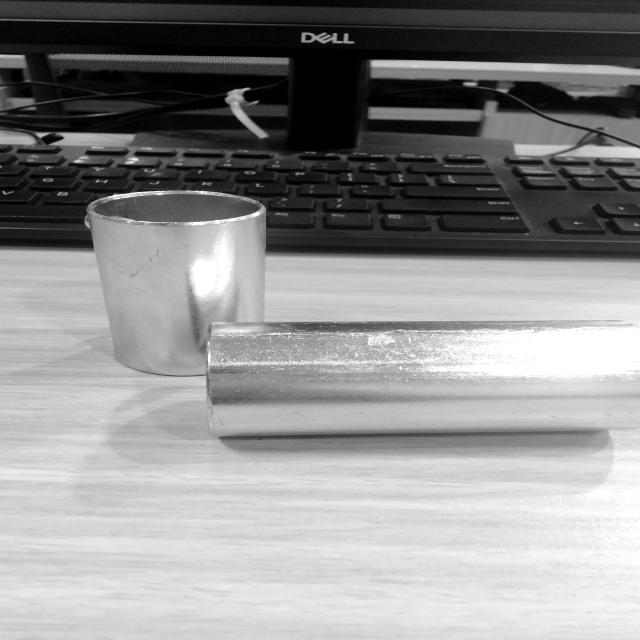Co_Nho: (85, 191, 266, 376)
